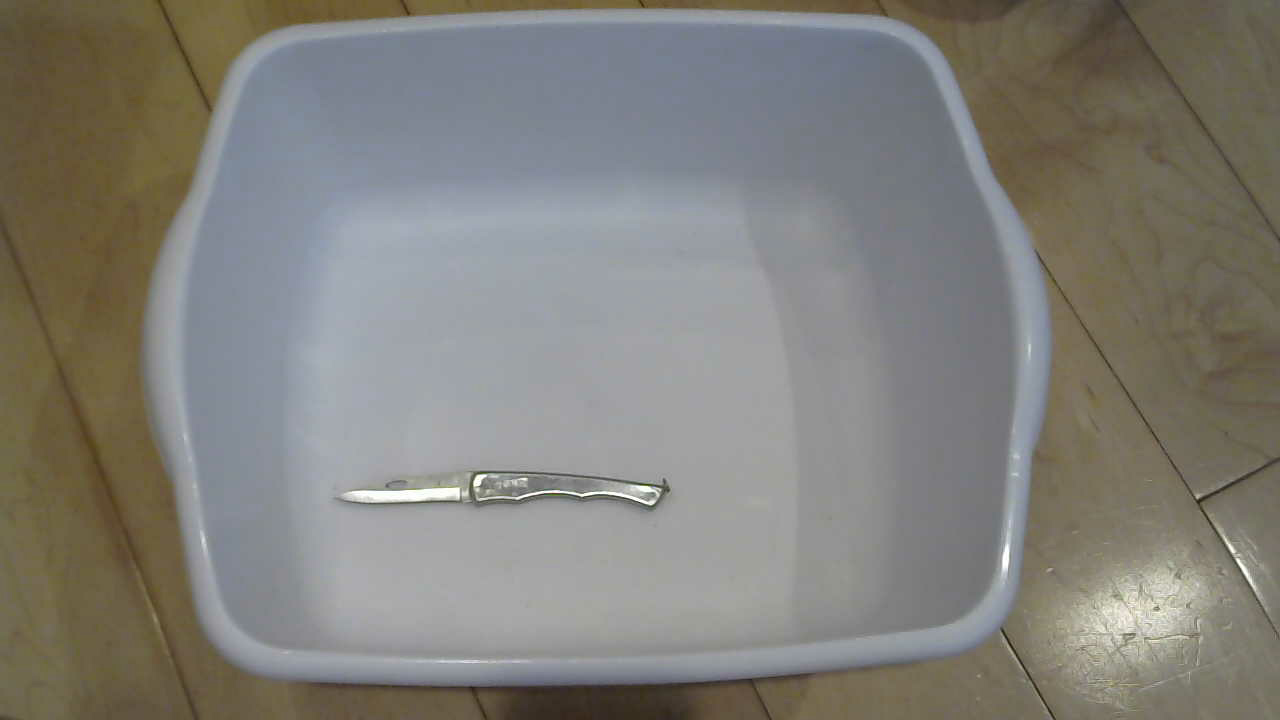knife: (331, 468, 676, 533)
